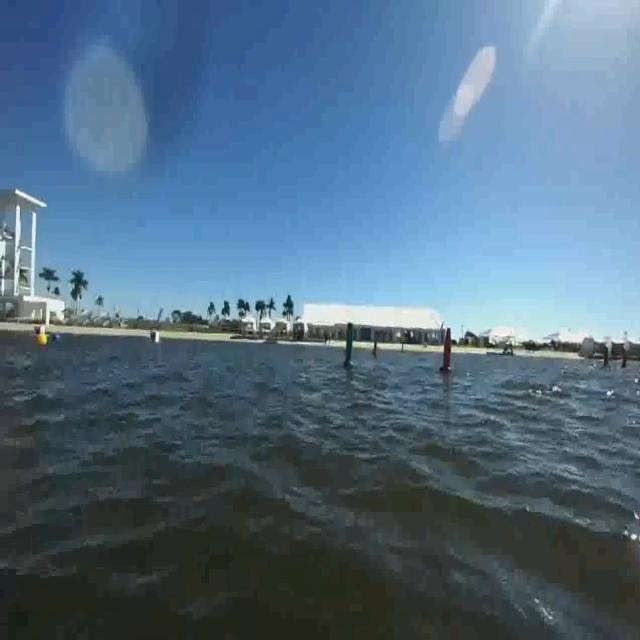green-column-buoy: (343, 320, 359, 368)
red-column-buoy: (441, 326, 456, 373)
yellow-duck: (38, 334, 48, 348)
